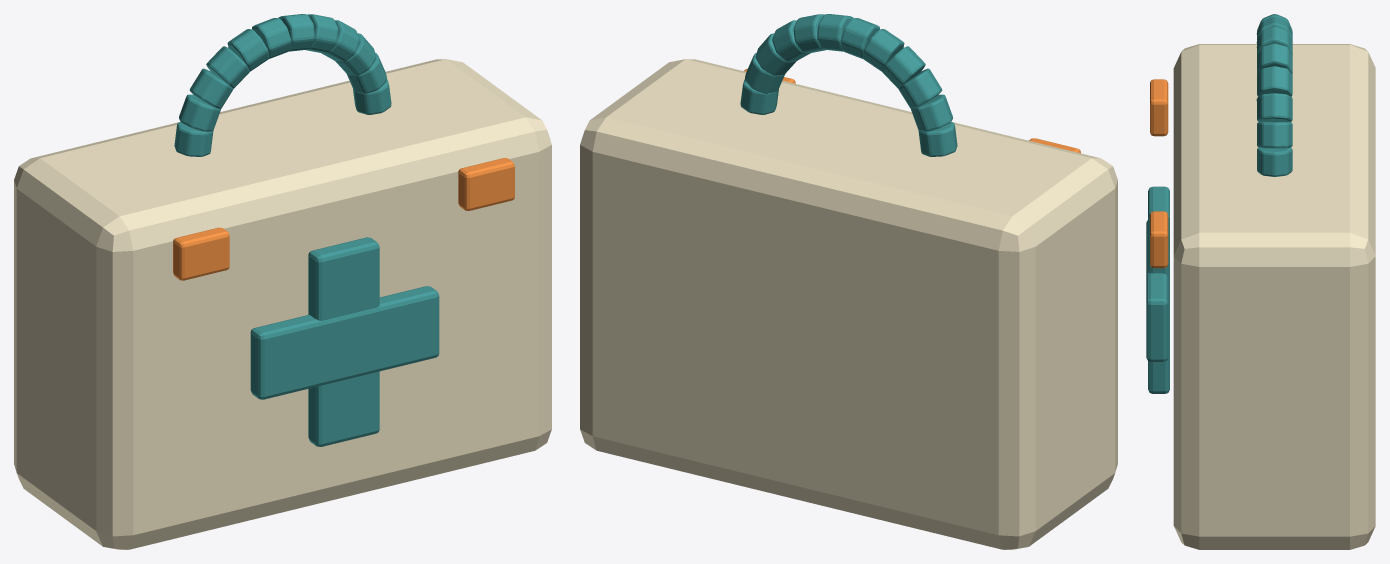
File: P098_first_aid_case.glb
3 views of the same model, side by side, from view 1: azimuth 30°, elevation 25°; view 2: azimuth 150°, elevation 25°; view 3: azimuth 270°, elevation 25° (orthographic). The views are drawn at different scales.
Visible parts, largest first — view 1: P098_case_001, P098_symbol_h_015, P098_symbol_v_014, P098_latch_016, P098_latch_017, P098_handle_012, P098_handle_009, P098_handle_010, P098_handle_011, P098_handle_013, P098_handle_008, P098_handle_007 (+5 smaller); view 2: P098_case_001, P098_handle_012, P098_handle_009, P098_handle_010, P098_handle_011, P098_handle_013, P098_handle_008, P098_handle_007, P098_handle_006, P098_handle_002, P098_handle_005, P098_handle_004 (+1 smaller); view 3: P098_case_001, P098_symbol_h_015, P098_symbol_v_014, P098_latch_016, P098_latch_017, P098_handle_004, P098_handle_002, P098_handle_003, P098_handle_005, P098_handle_006, P098_handle_007, P098_handle_008.
Boxes of the visible parts, x1,y1,x2,y2 form: P098_case_001: (14,59,551,549); P098_symbol_h_015: (250,286,439,399); P098_symbol_v_014: (308,237,379,446); P098_latch_016: (173,227,229,280); P098_latch_017: (458,158,514,210); P098_handle_012: (179,94,220,131); P098_handle_009: (227,29,269,71); P098_handle_010: (206,46,249,88); P098_handle_011: (189,68,233,108); P098_handle_013: (174,122,213,156); P098_handle_008: (252,18,291,58); P098_handle_007: (278,14,314,51); P098_case_001: (580,59,1117,549); P098_handle_012: (911,94,952,131); P098_handle_009: (862,29,904,71); P098_handle_010: (882,46,925,88); P098_handle_011: (898,68,942,108); P098_handle_013: (918,122,957,156); P098_handle_008: (840,18,879,58); P098_handle_007: (817,14,853,51); P098_handle_006: (793,14,825,52); P098_handle_002: (740,79,778,114); P098_handle_005: (772,20,810,61); P098_handle_004: (755,33,796,75); P098_case_001: (1173,44,1375,549); P098_symbol_h_015: (1146,220,1168,361); P098_symbol_v_014: (1148,186,1169,393); P098_latch_016: (1150,79,1168,136); P098_latch_017: (1150,211,1168,268); P098_handle_004: (1256,93,1292,121); P098_handle_002: (1257,147,1292,176); P098_handle_003: (1257,122,1292,148); P098_handle_005: (1257,66,1292,96); P098_handle_006: (1257,43,1292,73); P098_handle_007: (1256,26,1292,54); P098_handle_008: (1256,16,1292,40).
Bounding box in the file's own units: 0.27 × 0.2585 × 0.125.
